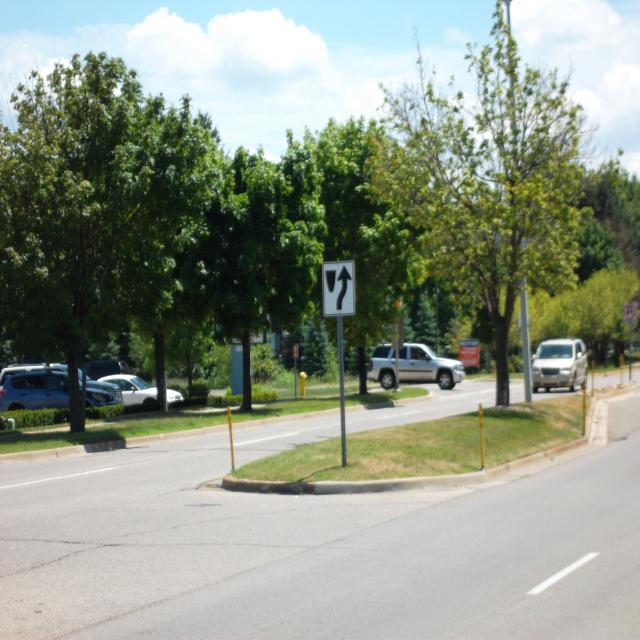regulatory: (320, 256, 355, 316)
